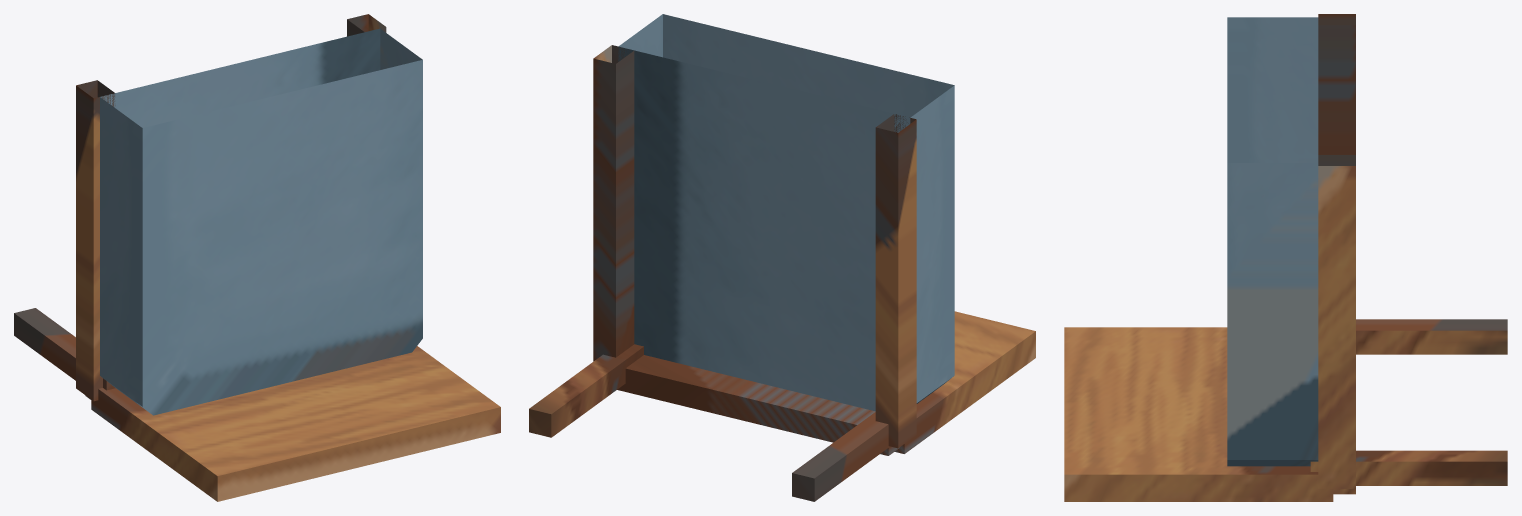
Rendered from pz_bed_bedding_01_blue_0_0.obj.
3 renders of one model, left to right at view 1: azimuth 30°, elevation 25°; view 2: azimuth 150°, elevation 25°; view 3: azimuth 270°, elevation 25°, orthographic. The views are drawn at different scales.
Bounding box in the file's own units: 0.95 × 0.985 × 1.17.
1 material, 1 textured.
